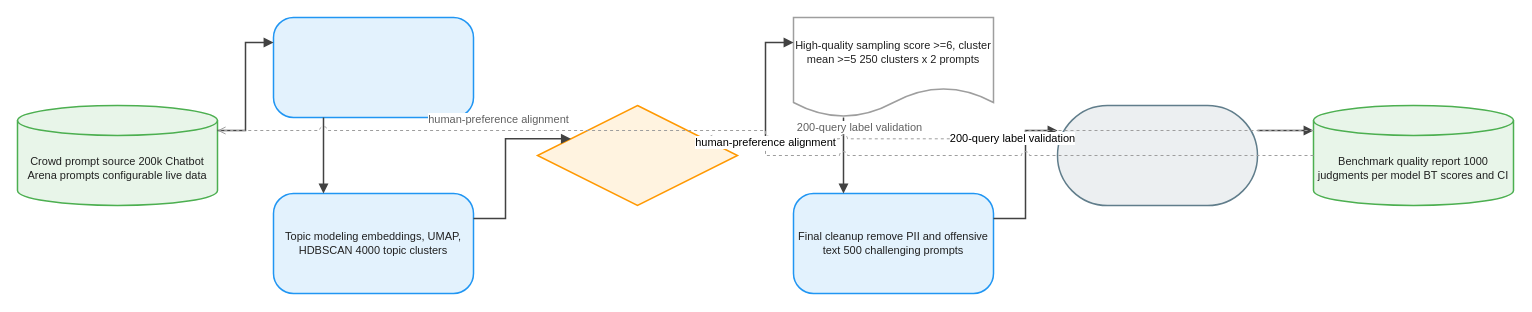
The diagram is 1532 pixels wide and 312 high, and some of its shapes have lost their labels. The centre of each missing label's shape, as x and y in pixels:
"GPT-4-Turbo scoring seven prompt qualities prompt and cluster scores" goes at point (637, 155).
"Initial filtering remove duplicates multi-turn and non-English" goes at point (373, 67).
"Pairwise judge games baseline model comparison CoT and position swap" goes at point (1157, 155).
